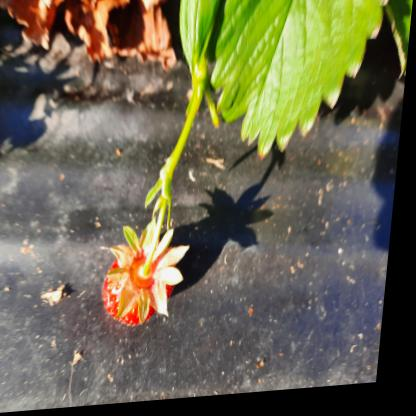ripe: (108, 239, 184, 329)
